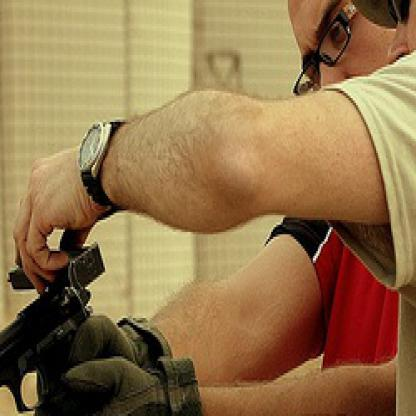gun: (0, 266, 93, 414)
